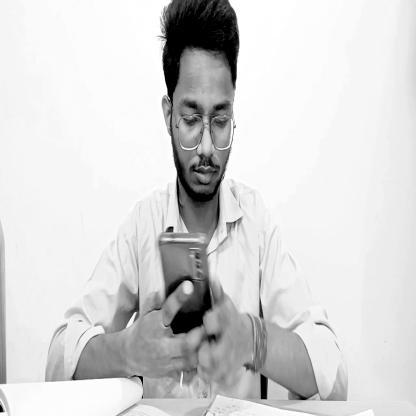Normal: (160, 3, 244, 204)
